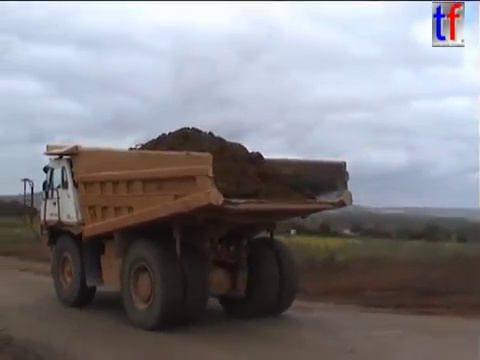truck: (18, 141, 355, 332)
